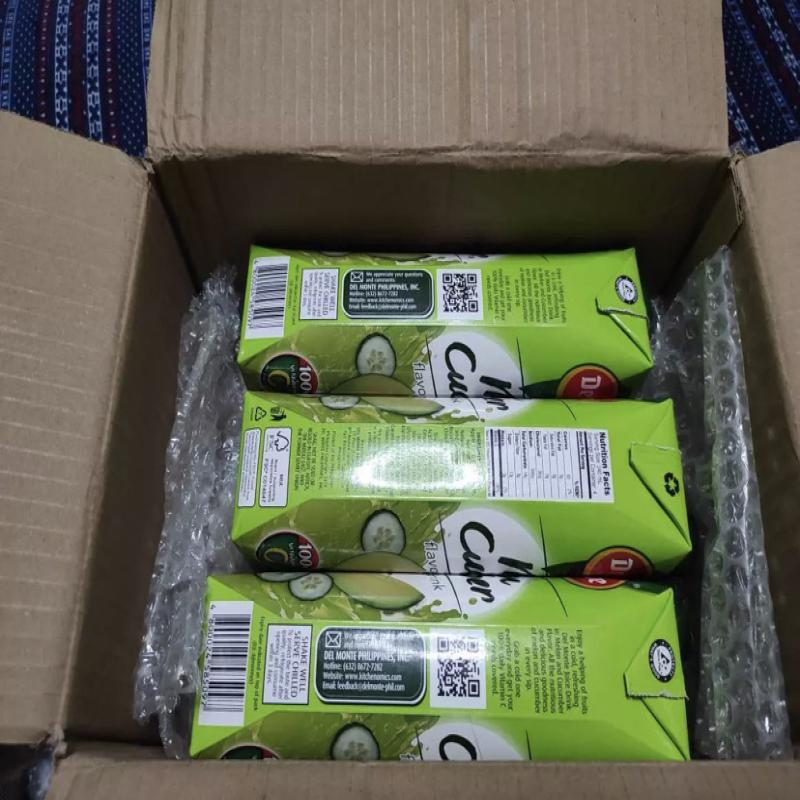uht carton: (186, 572, 691, 763), (230, 391, 693, 579), (237, 245, 655, 401)
